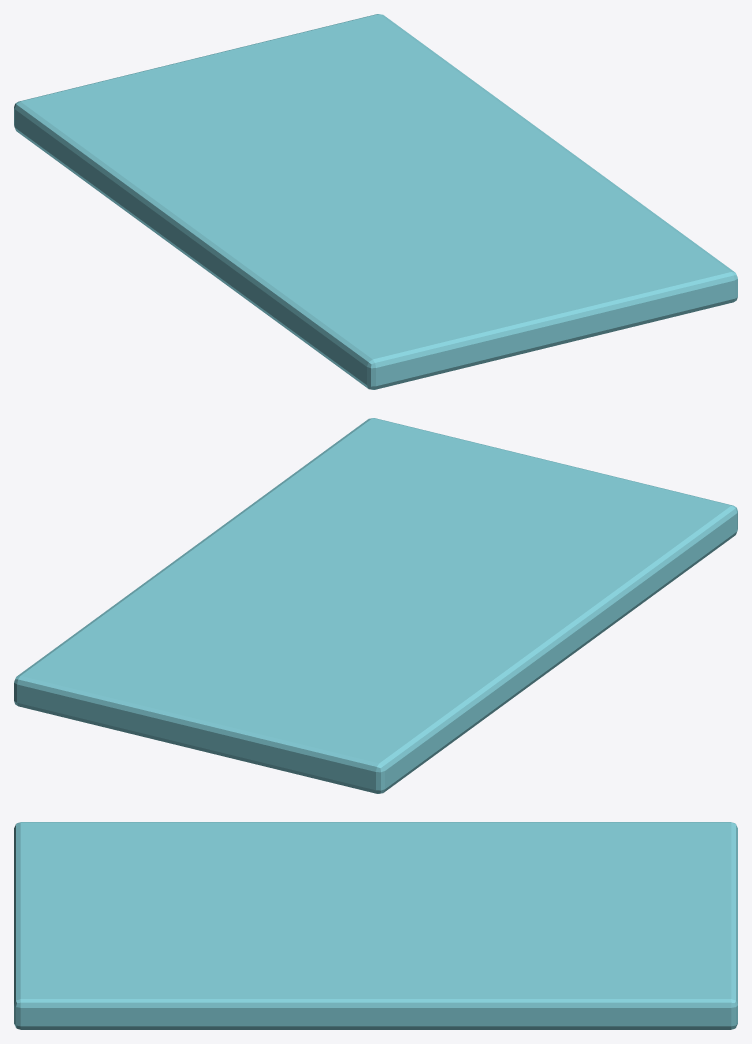
File: SM_Interact_FrostCrossing.fbx
3 renders of one model, top to bottom at view 1: azimuth 30°, elevation 25°; view 2: azimuth 150°, elevation 25°; view 3: azimuth 270°, elevation 25°, orthographic.
Parts seen in each view (by area): view 1: SM_Interact_FrostCrossing; view 2: SM_Interact_FrostCrossing; view 3: SM_Interact_FrostCrossing.
Boxes of the visible parts, x1,y1,x2,y2 form: SM_Interact_FrostCrossing: (14, 14, 737, 389); SM_Interact_FrostCrossing: (14, 418, 737, 793); SM_Interact_FrostCrossing: (14, 822, 737, 1029).
Size of the model in its own units: 2.8 by 4.7 by 0.22.
